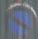No waiting: (3, 2, 37, 37)
